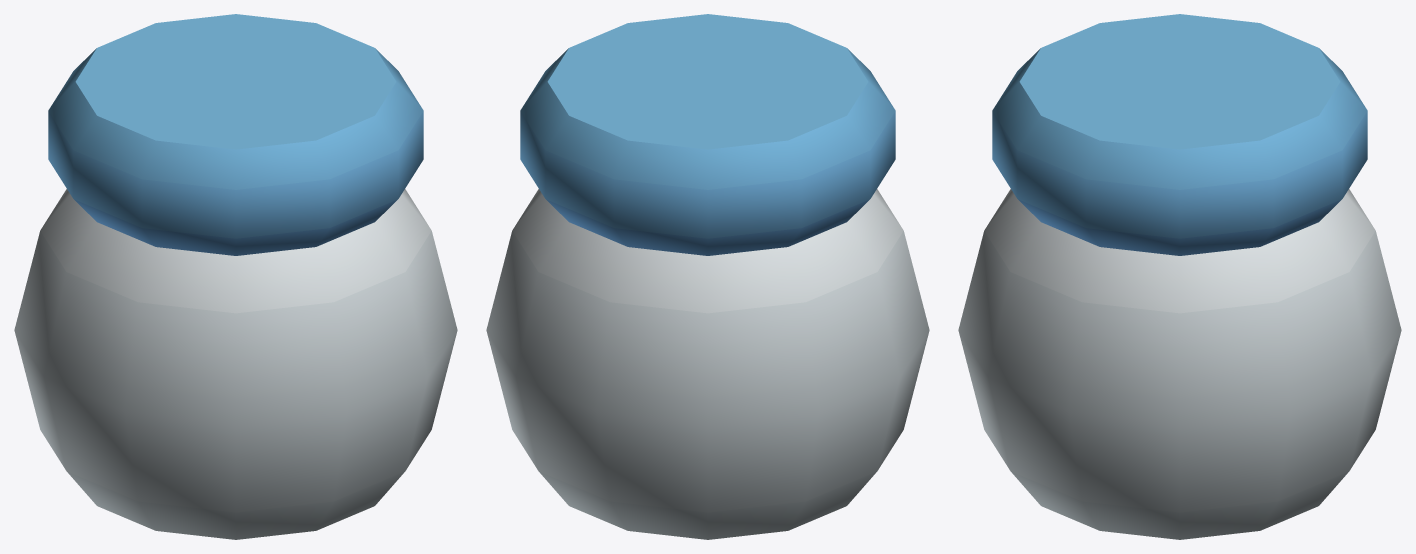
File: jar_A_small.glb
The picture shows the model from 3 angles, left to right: view 1: azimuth 30°, elevation 25°; view 2: azimuth 150°, elevation 25°; view 3: azimuth 270°, elevation 25°; orthographic projection.
Parts seen in each view (by area): view 1: jar_A_small; view 2: jar_A_small; view 3: jar_A_small.
Boxes of the visible parts, x1,y1,x2,y2 form: jar_A_small: (14, 14, 457, 539); jar_A_small: (486, 14, 929, 539); jar_A_small: (958, 14, 1401, 539).
Bounding box in the file's own units: 0.566 × 0.55 × 0.566.
Materials: 1 (1 with a texture image).
